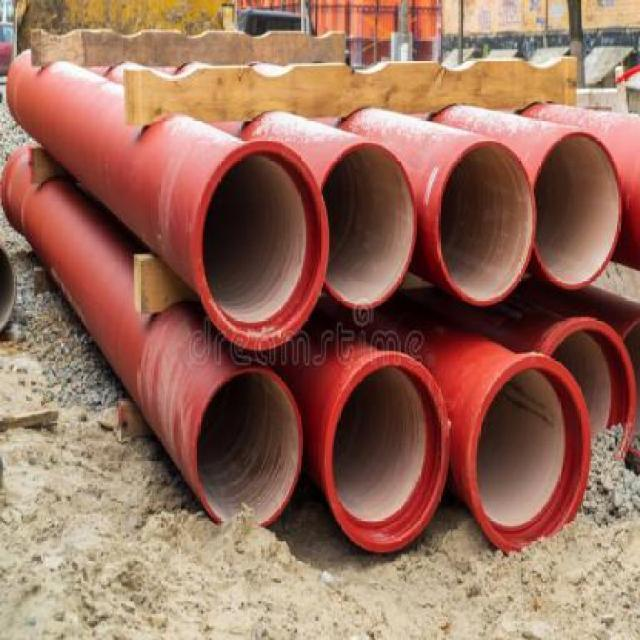pipe: (193, 140, 330, 349), (325, 353, 450, 555), (469, 355, 592, 552), (194, 368, 303, 529), (436, 140, 536, 306), (321, 143, 417, 309), (532, 129, 623, 289), (544, 316, 638, 458)
